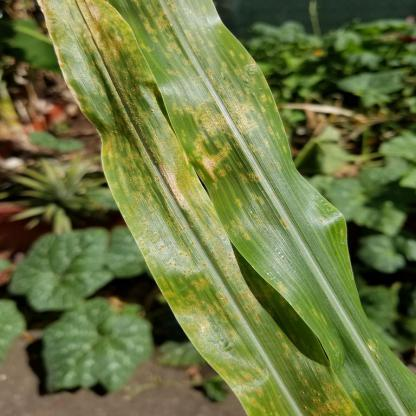Corn rust leaf: (34, 0, 416, 416)
